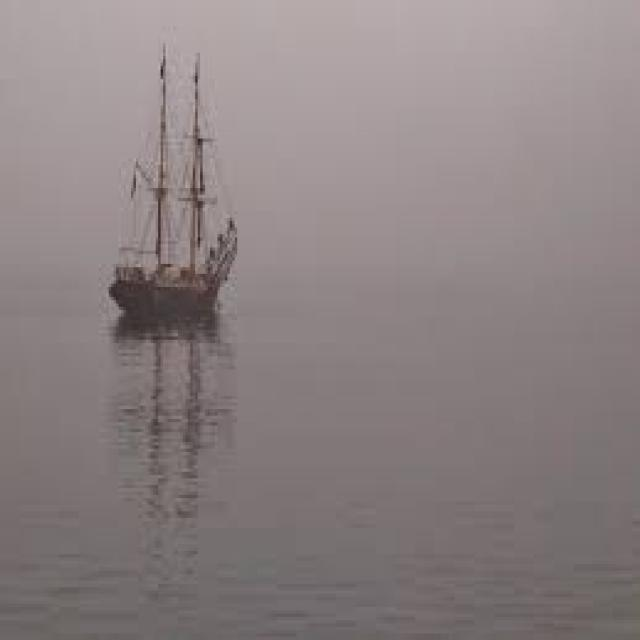fishing boat: (109, 36, 248, 342)
